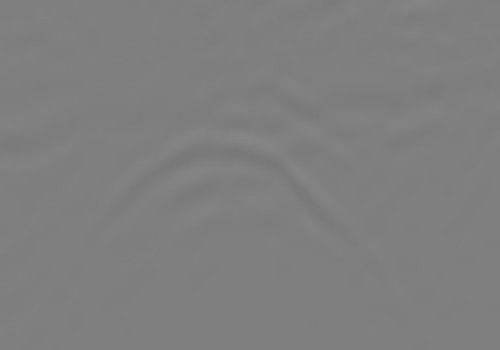hyperbola: (88, 120, 338, 241)
